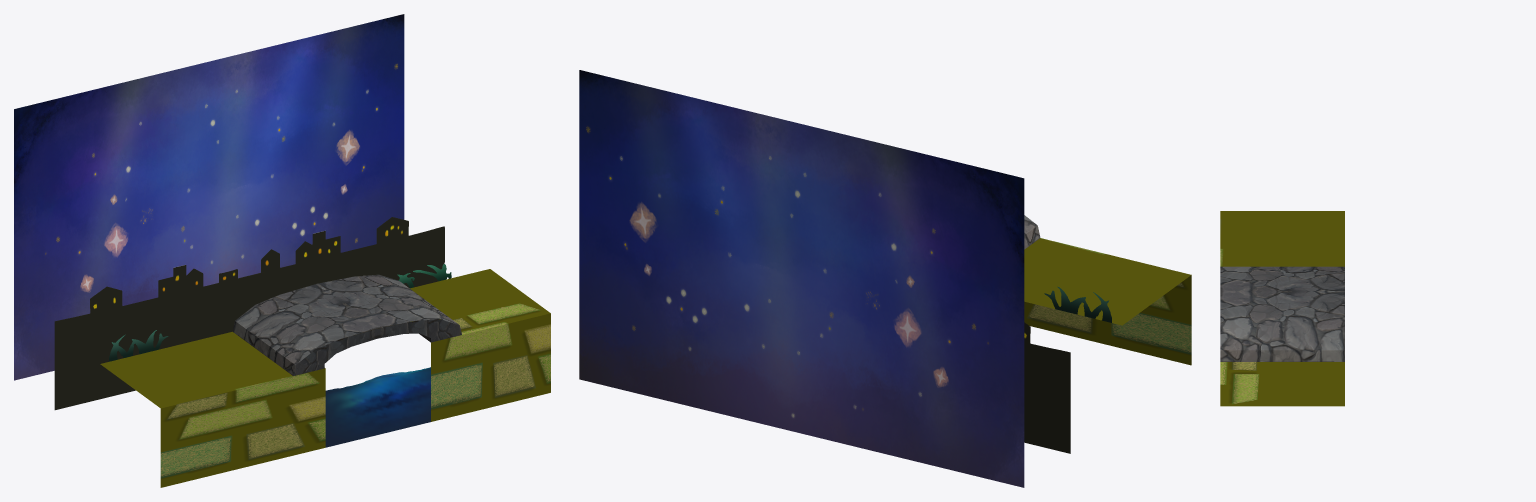
The model's file is BG_All02.fbx.
3 renders of one model, left to right at view 1: azimuth 30°, elevation 25°; view 2: azimuth 150°, elevation 25°; view 3: azimuth 270°, elevation 25°, orthographic. The views are drawn at different scales.
Parts seen in each view (by area): view 1: polySurface2, polySurface10, polySurface27, polySurface29, polySurface28_polySurface32_polySurface32, polySurface14, polySurface18; view 2: polySurface2, polySurface27, polySurface10, polySurface18; view 3: polySurface28_polySurface32_polySurface32, polySurface27, polySurface29.
Part boxes in pixels (<box>): polySurface2: <box>14,14,404,380</box>; polySurface10: <box>54,217,444,410</box>; polySurface27: <box>100,331,325,487</box>; polySurface29: <box>410,269,550,421</box>; polySurface28_polySurface32_polySurface32: <box>232,274,461,375</box>; polySurface14: <box>325,367,430,447</box>; polySurface18: <box>109,330,168,361</box>; polySurface2: <box>579,70,1024,487</box>; polySurface27: <box>1024,238,1191,365</box>; polySurface10: <box>1024,322,1070,453</box>; polySurface18: <box>1044,286,1111,322</box>; polySurface28_polySurface32_polySurface32: <box>1220,266,1344,361</box>; polySurface27: <box>1220,211,1344,266</box>; polySurface29: <box>1220,362,1344,406</box>.
Size of the model in its own units: 24.83 by 16.51 by 16.17.
